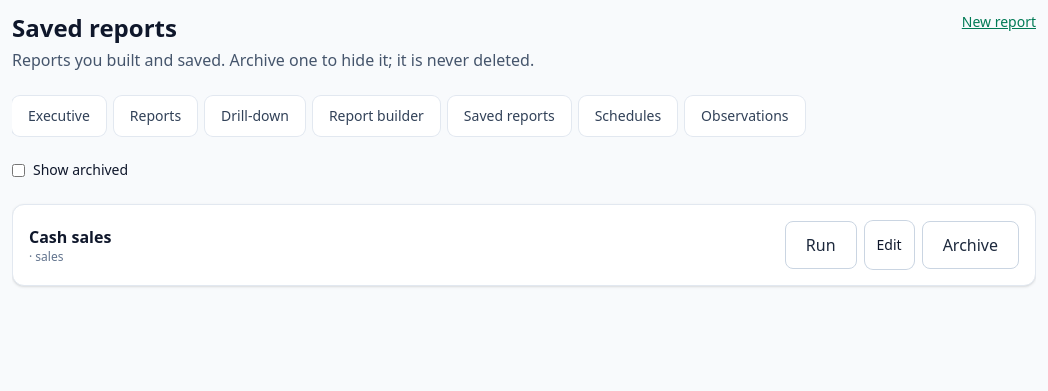
Test: saved reports › archives instead of deleting, and there is no delete control
Expected: the heading "Cash sales" is shown, [29,225,111,249]
Click the button "Archive": [970, 245] box [922,221,1019,269]
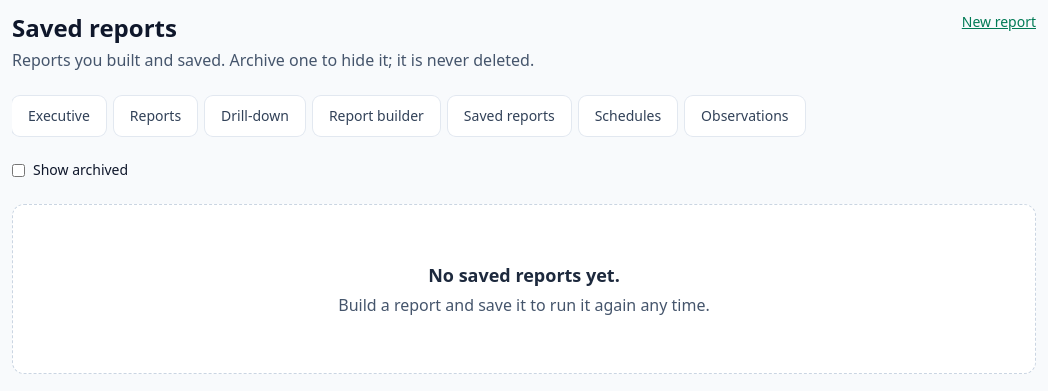
Now the text "No saved reports yet." is shown, box [428,261,620,289]
